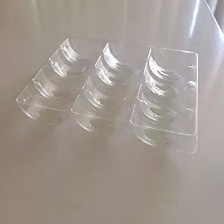plastic_box: (11, 27, 208, 158)
